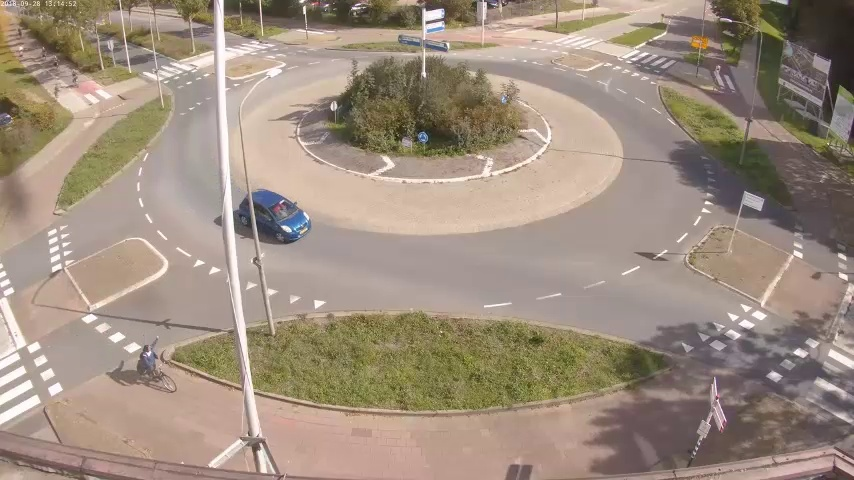bicycle: (135, 344, 178, 400)
car: (240, 188, 306, 245)
